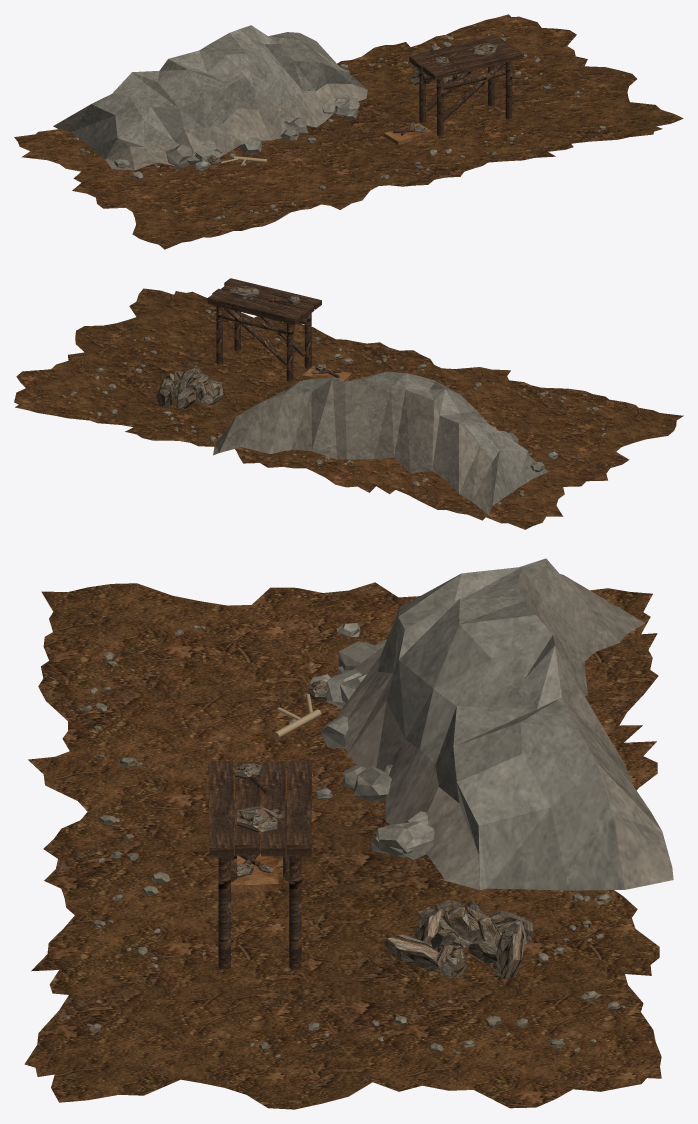
The model's file is quarry.glb.
The picture shows the model from 3 angles, top to bottom: view 1: azimuth 30°, elevation 25°; view 2: azimuth 150°, elevation 25°; view 3: azimuth 270°, elevation 25°; orthographic projection. The views are drawn at different scales.
Parts seen in each view (by area): view 1: part_0, part_1, part_4, part_3, part_5; view 2: part_0, part_1, part_4, part_3; view 3: part_0, part_1, part_4, part_3, part_5.
Part boxes in pixels (x1,y1,x2,y2): part_0: (14, 14, 683, 249); part_1: (53, 25, 605, 220); part_4: (393, 35, 523, 136); part_3: (208, 43, 497, 165); part_5: (384, 123, 432, 145); part_0: (14, 288, 683, 529); part_1: (62, 309, 605, 515); part_4: (207, 278, 341, 381); part_3: (156, 286, 496, 429); part_0: (24, 582, 661, 1109); part_1: (65, 558, 673, 1057); part_4: (208, 761, 311, 969); part_3: (235, 680, 533, 978); part_5: (231, 853, 279, 892).
Size of the model in its own units: 7.6 by 1.14 by 3.93.
7 materials, 5 textured.
